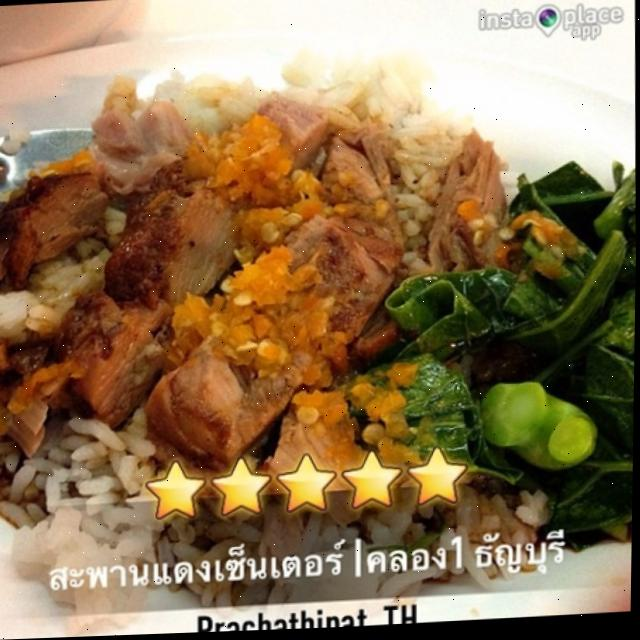猪肉菜式: (0, 21, 623, 596)
